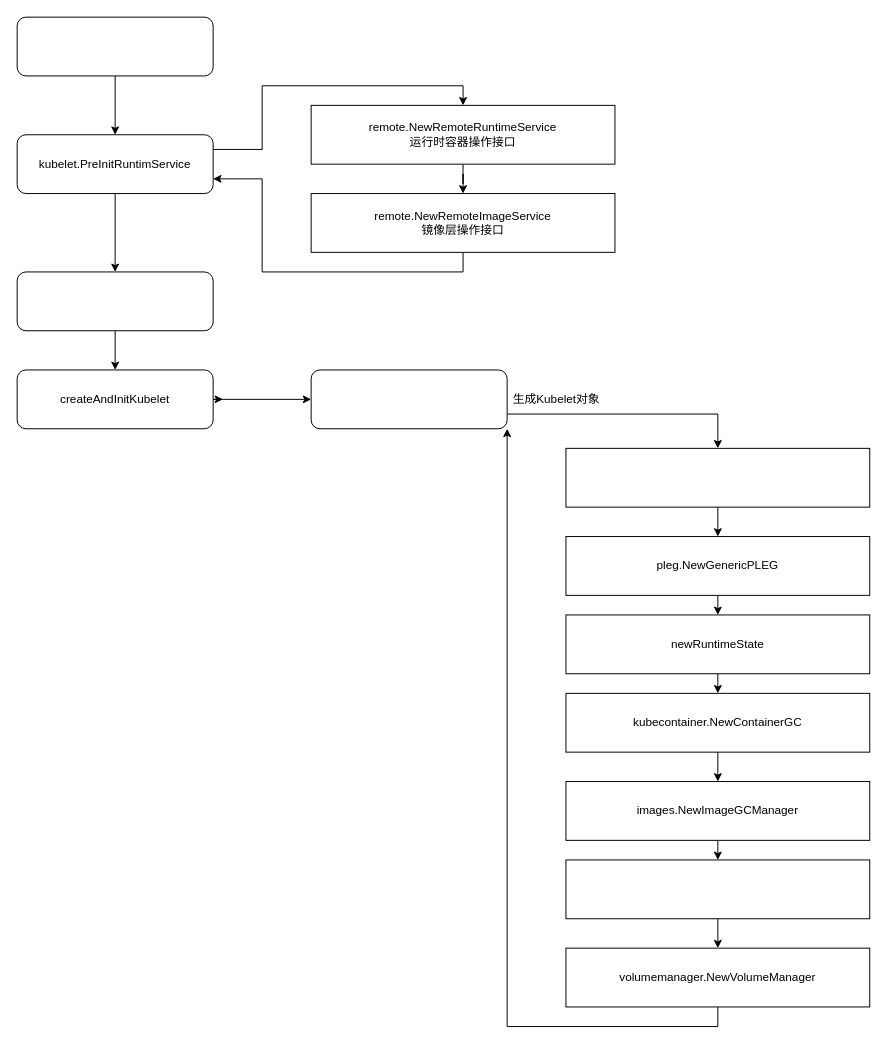
Some shapes in this 887 by 1052 pixel diagram are drawn without their labels. Each missing label, with the centre of its shape:
"kubelet.NewMainKubelet" belongs at (x=408, y=399).
"kuberuntime.NewKubeGenericRuntimeManager" belongs at (x=717, y=477).
"pluginmanager.NewPluginManager" belongs at (x=717, y=889).
"run" belongs at (x=114, y=46).
"RunKubelet" belongs at (x=114, y=301).
